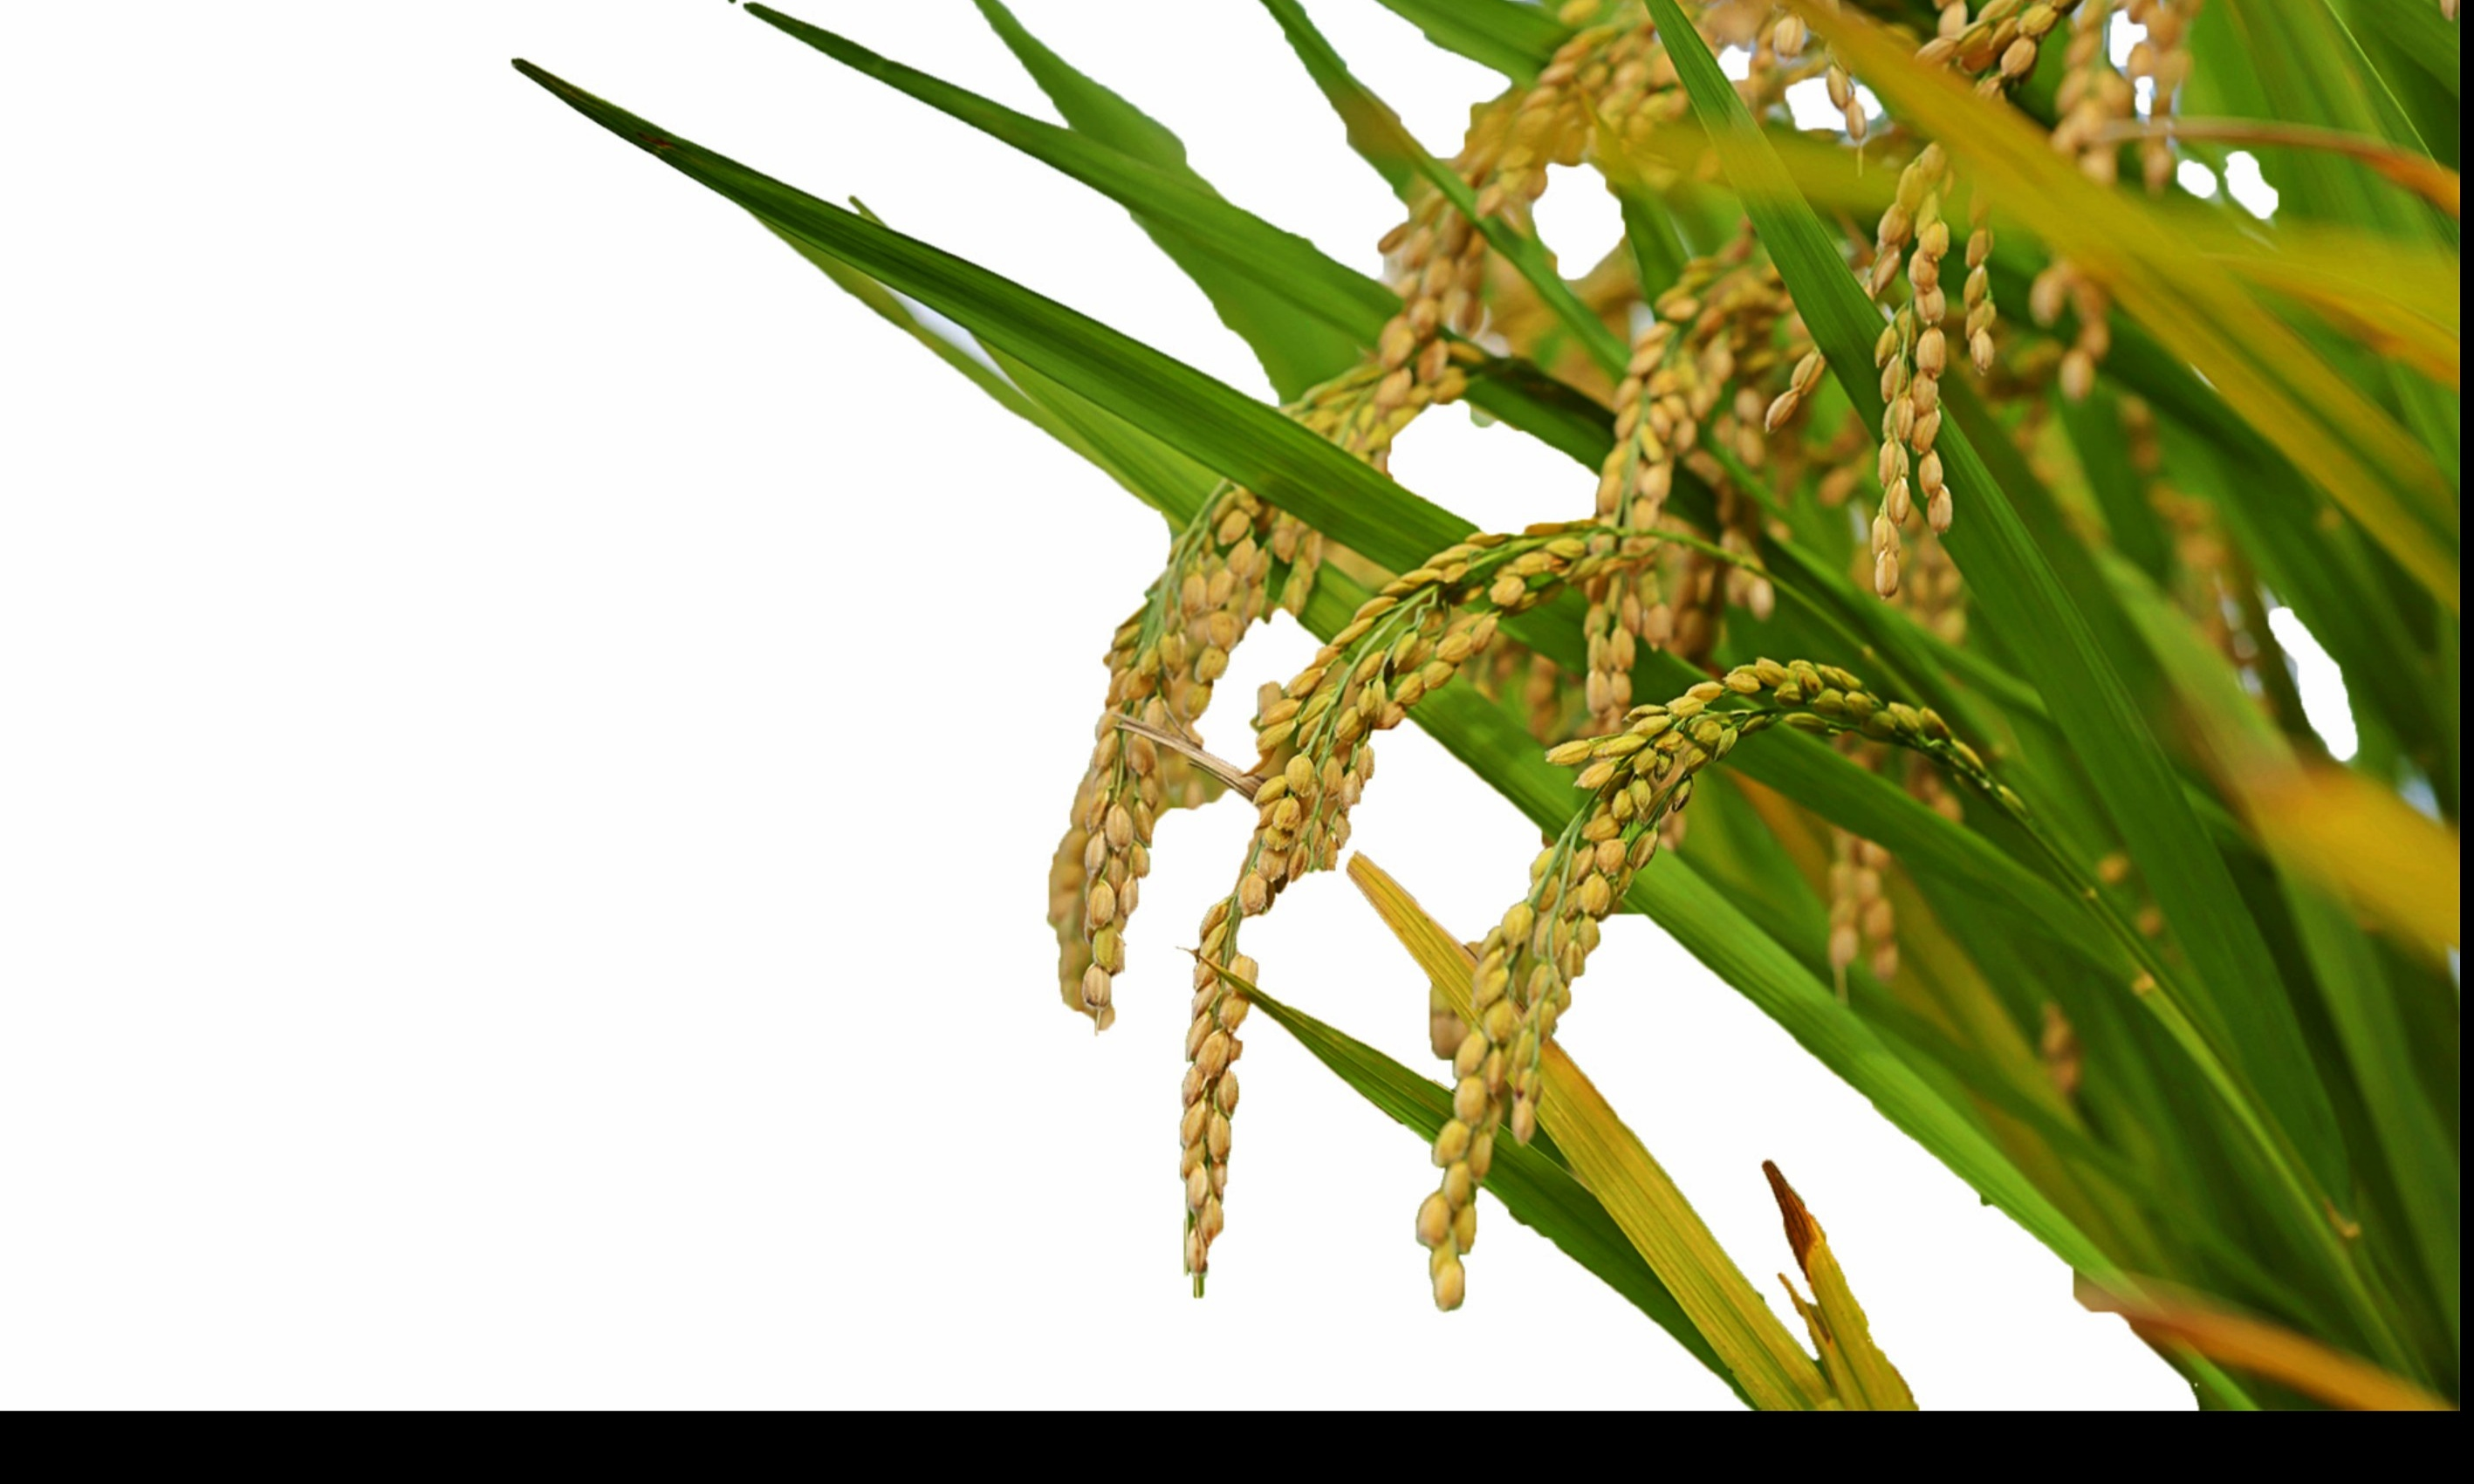rice: (1196, 488, 1808, 1286), (1428, 654, 1940, 1332), (1039, 334, 1415, 1016)
